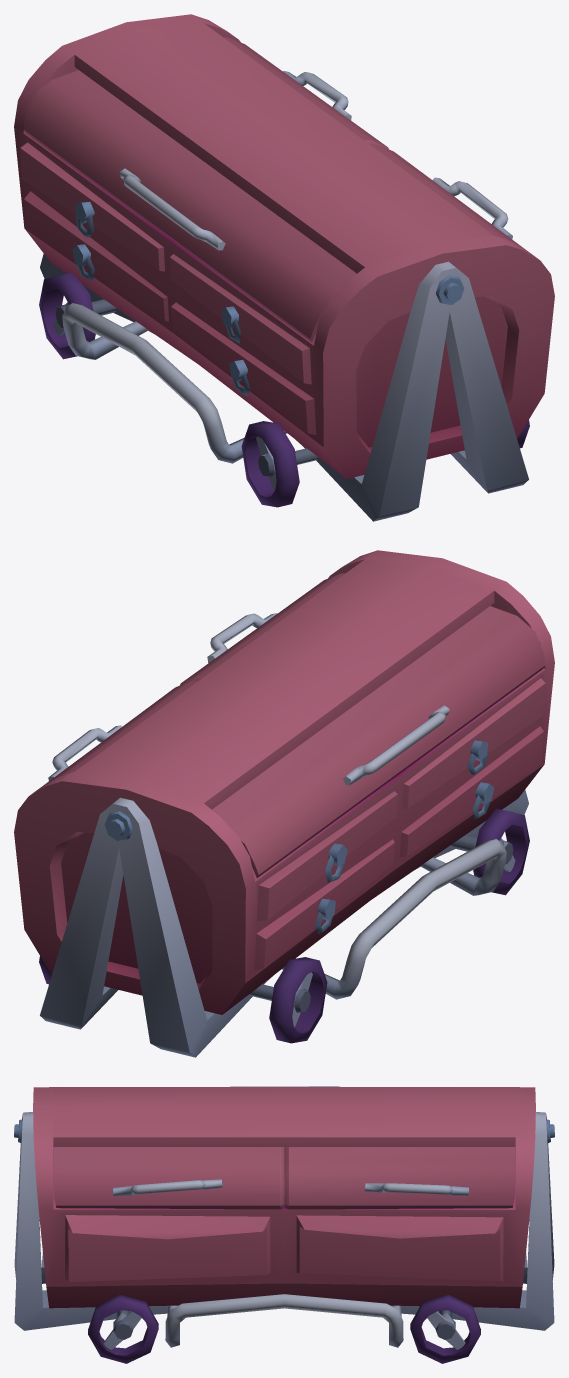
File: obstacle-toolbox_cart.glb
The picture shows the model from 3 angles, top to bottom: view 1: azimuth 30°, elevation 25°; view 2: azimuth 150°, elevation 25°; view 3: azimuth 270°, elevation 25°; orthographic projection. The views are drawn at different scales.
Parts seen in each view (by area): view 1: obstacle-toolbox_cart; view 2: obstacle-toolbox_cart; view 3: obstacle-toolbox_cart.
Part boxes in pixels (x1,y1,x2,y2): obstacle-toolbox_cart: (14,14,554,521); obstacle-toolbox_cart: (14,550,554,1057); obstacle-toolbox_cart: (14,1086,554,1363).
Size of the model in its own units: 2.65 by 2.18 by 5.07.
